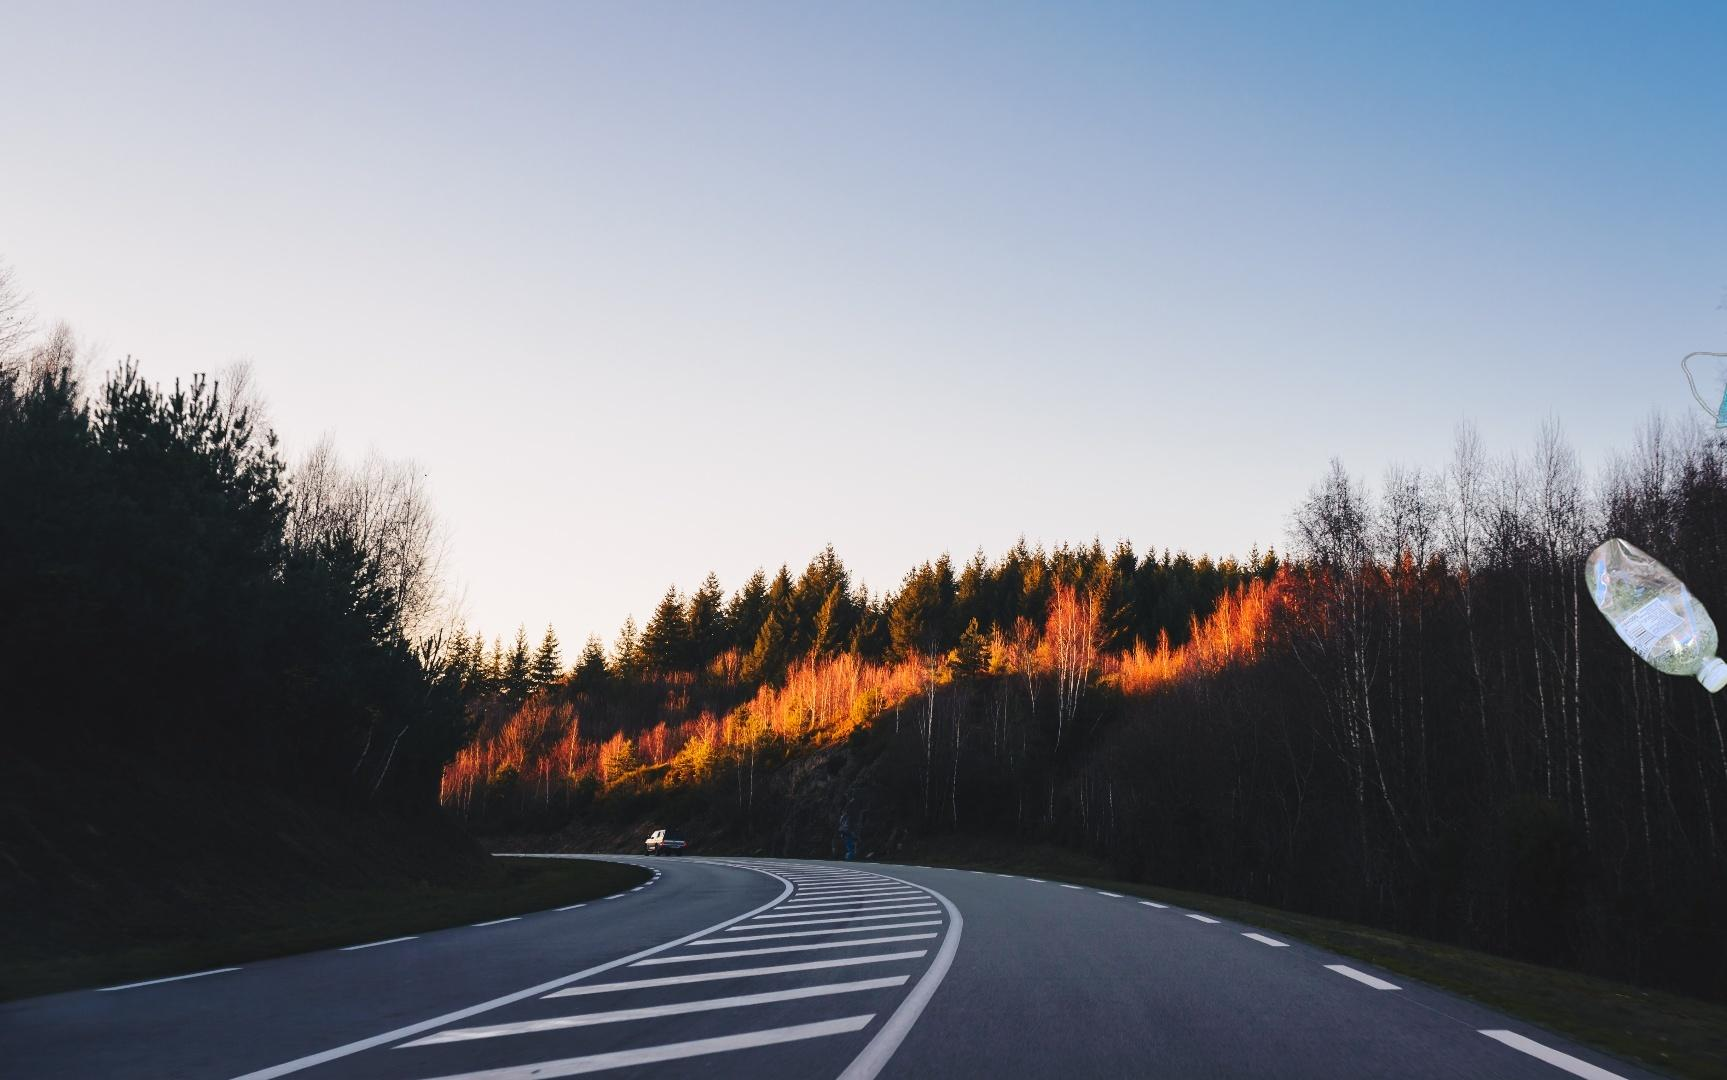plastic-bottles: (1580, 531, 1727, 699)
trash: (1678, 338, 1727, 431)
